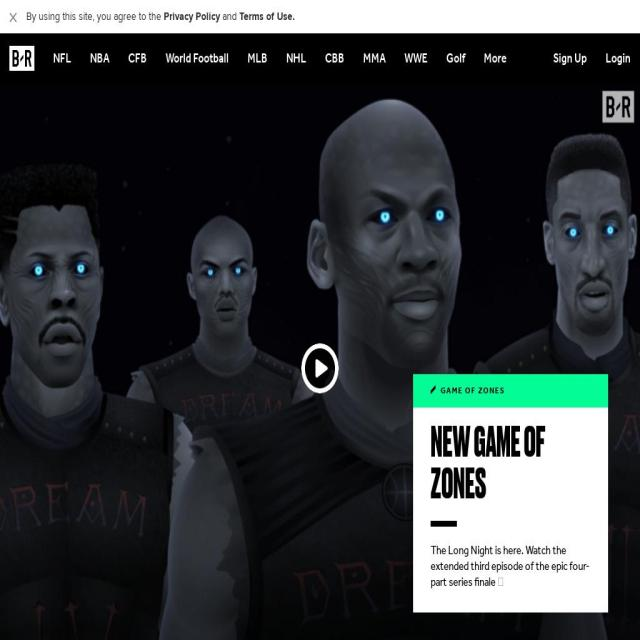button: (0, 83, 640, 640), (430, 421, 591, 505), (430, 542, 591, 591), (156, 34, 238, 84), (0, 34, 44, 84), (395, 34, 437, 84), (474, 34, 516, 84), (354, 34, 395, 84), (276, 34, 316, 84), (238, 34, 277, 84), (80, 34, 118, 84), (316, 34, 354, 84), (119, 34, 156, 84), (437, 34, 474, 84), (44, 34, 80, 84), (6, 8, 26, 25)
heading: (430, 421, 591, 505), (440, 385, 505, 397), (430, 385, 436, 395)
image: (0, 83, 640, 640), (301, 342, 339, 393), (10, 46, 34, 71), (430, 521, 457, 527), (9, 12, 17, 24)
link: (430, 542, 591, 591), (164, 11, 220, 22), (239, 11, 295, 22), (553, 50, 587, 66), (606, 50, 630, 66)
text: (26, 11, 164, 22), (220, 11, 237, 22)
